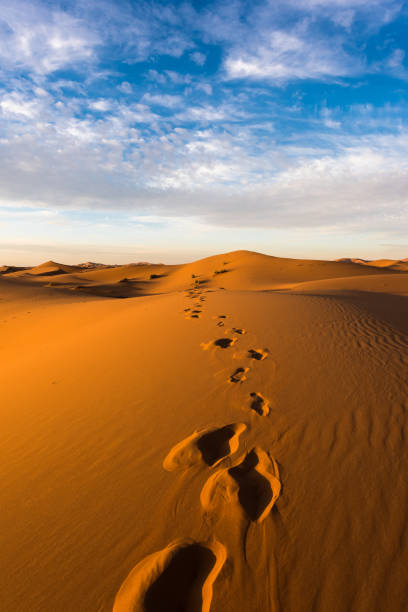human_foot_print: (113, 539, 226, 611), (200, 447, 280, 522), (163, 423, 246, 470), (249, 392, 269, 415), (201, 337, 236, 349), (228, 367, 248, 382), (247, 348, 268, 360)
